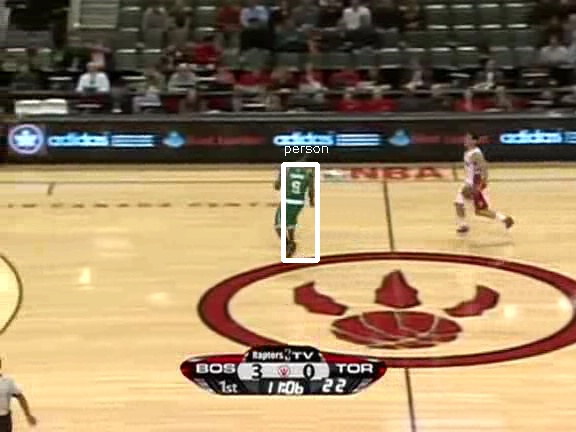person: (278, 157, 312, 238), (277, 157, 311, 238), (279, 157, 313, 238), (278, 156, 312, 237), (278, 158, 312, 239)
target_negative: (240, 81, 474, 384), (105, 156, 178, 300), (454, 249, 515, 402), (469, 111, 541, 205), (537, 3, 563, 111)
